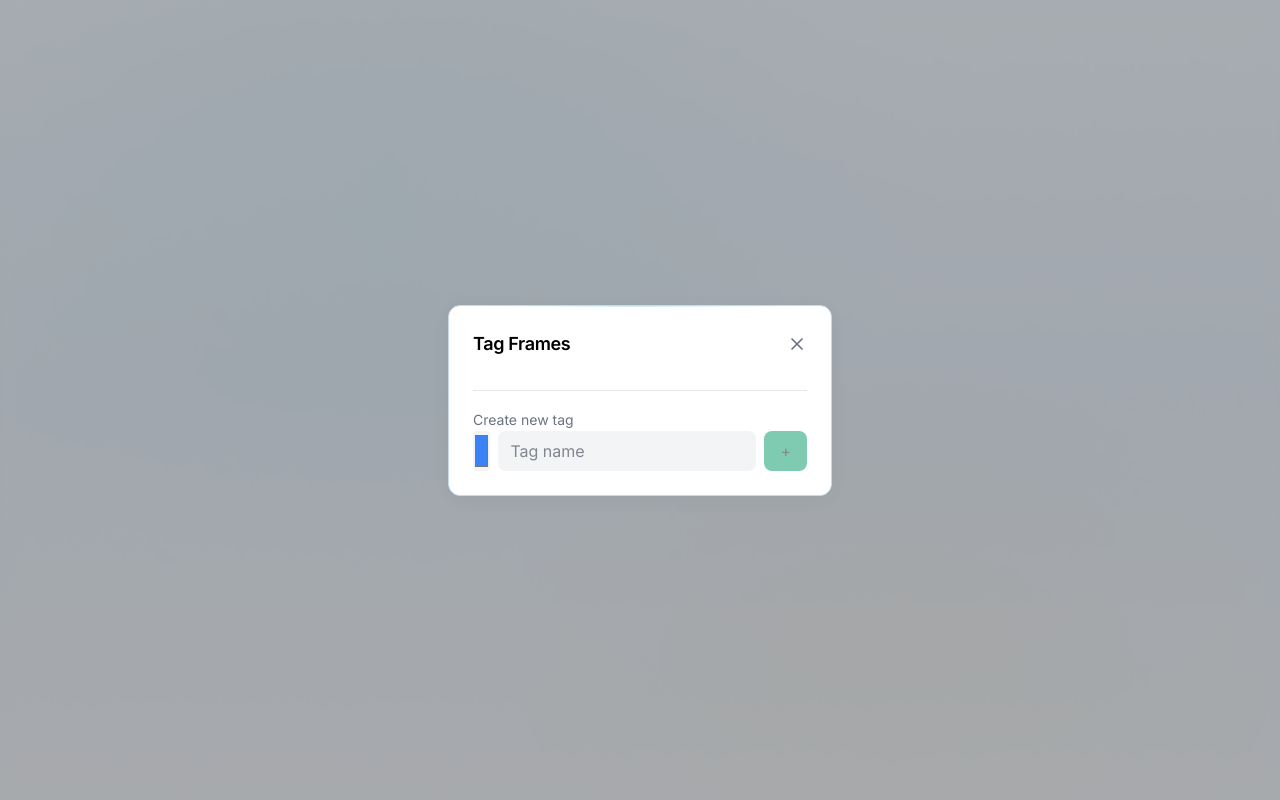
Scenario: TagModal › enables create tag button when name entered
Type "MyTag" into the field with placeholder "Tag name" at [627, 450], box [498,430,756,470]
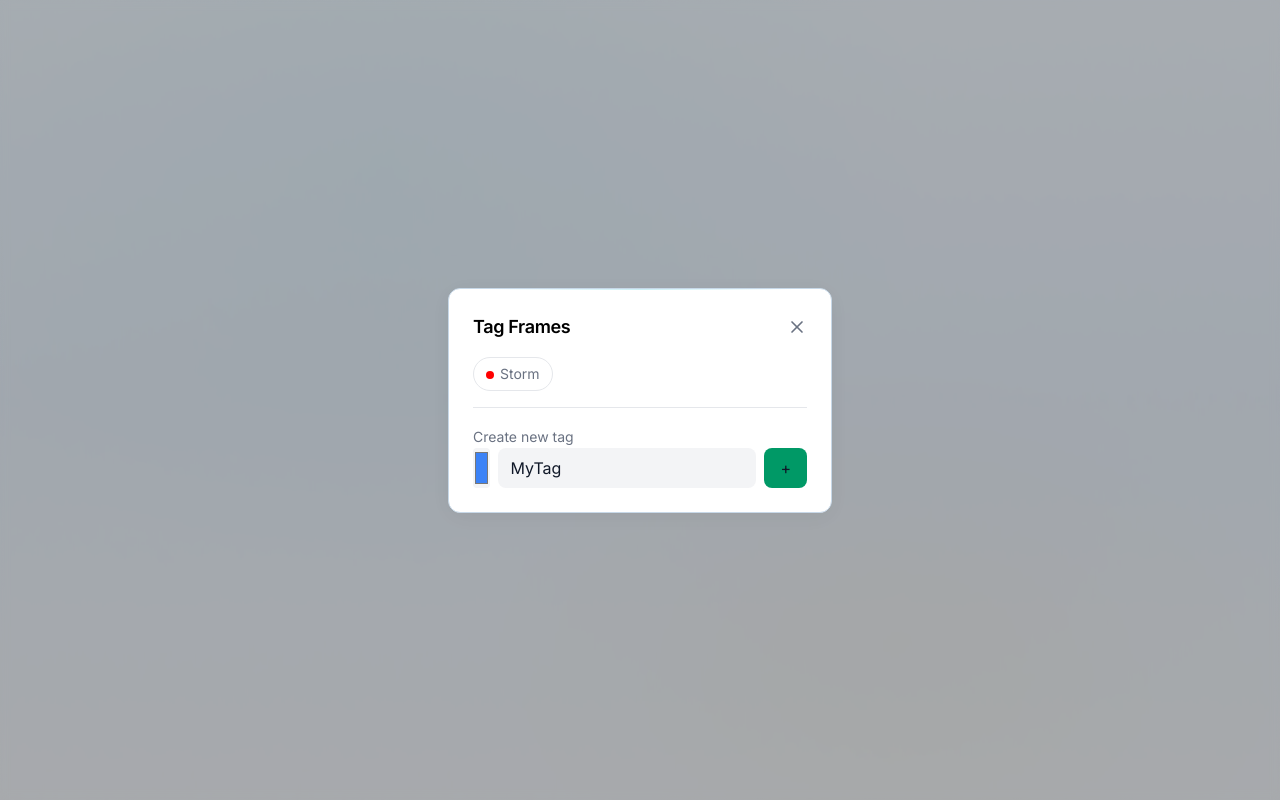
Expected: the button "+" is enabled, [764,448,807,488]
